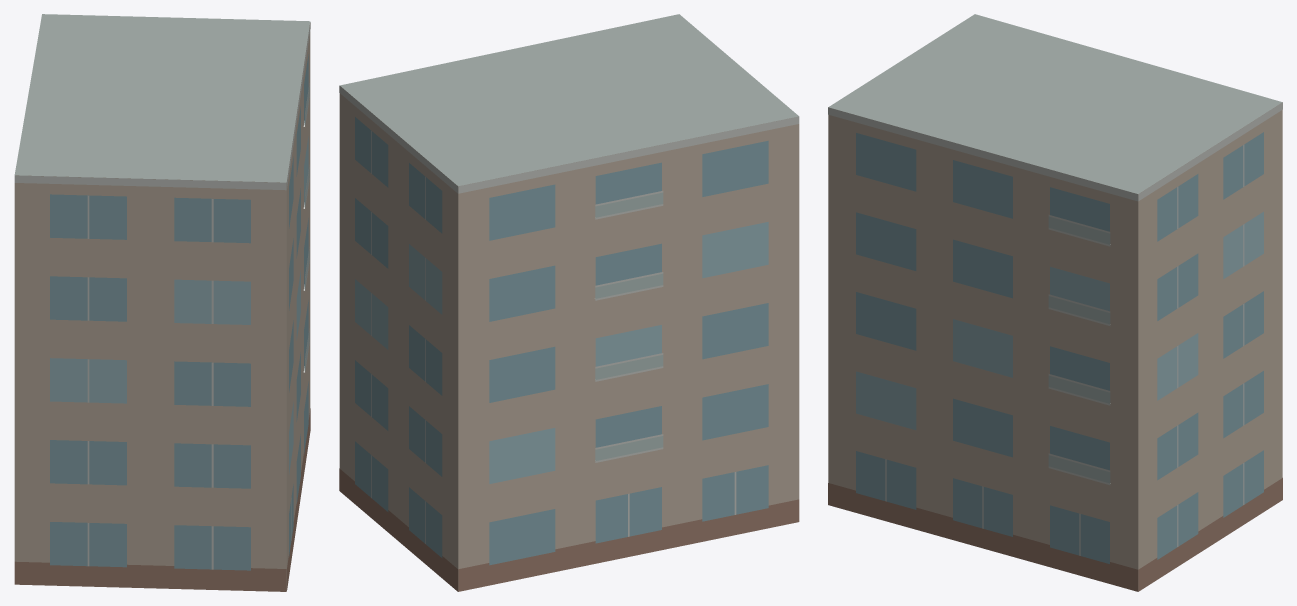
Rendered from survey-upis-33000025.glb.
3 renders of one model, left to right at view 1: azimuth 30°, elevation 25°; view 2: azimuth 150°, elevation 25°; view 3: azimuth 270°, elevation 25°, orthographic. The views are drawn at different scales.
Visible parts, largest first — view 1: survey-upis-33000025.tmp; view 2: survey-upis-33000025.tmp; view 3: survey-upis-33000025.tmp.
Boxes of the visible parts, x1=… form: survey-upis-33000025.tmp: x1=14, y1=14, x2=310, y2=591; survey-upis-33000025.tmp: x1=339, y1=14, x2=799, y2=591; survey-upis-33000025.tmp: x1=828, y1=14, x2=1282, y2=591.
Size of the model in its own units: 12.83 by 13.2 by 13.69.
